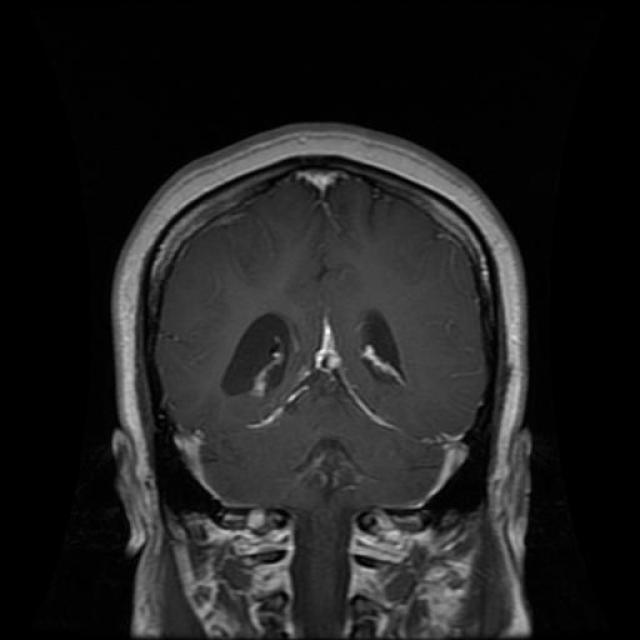glioma: (222, 299, 416, 425)
